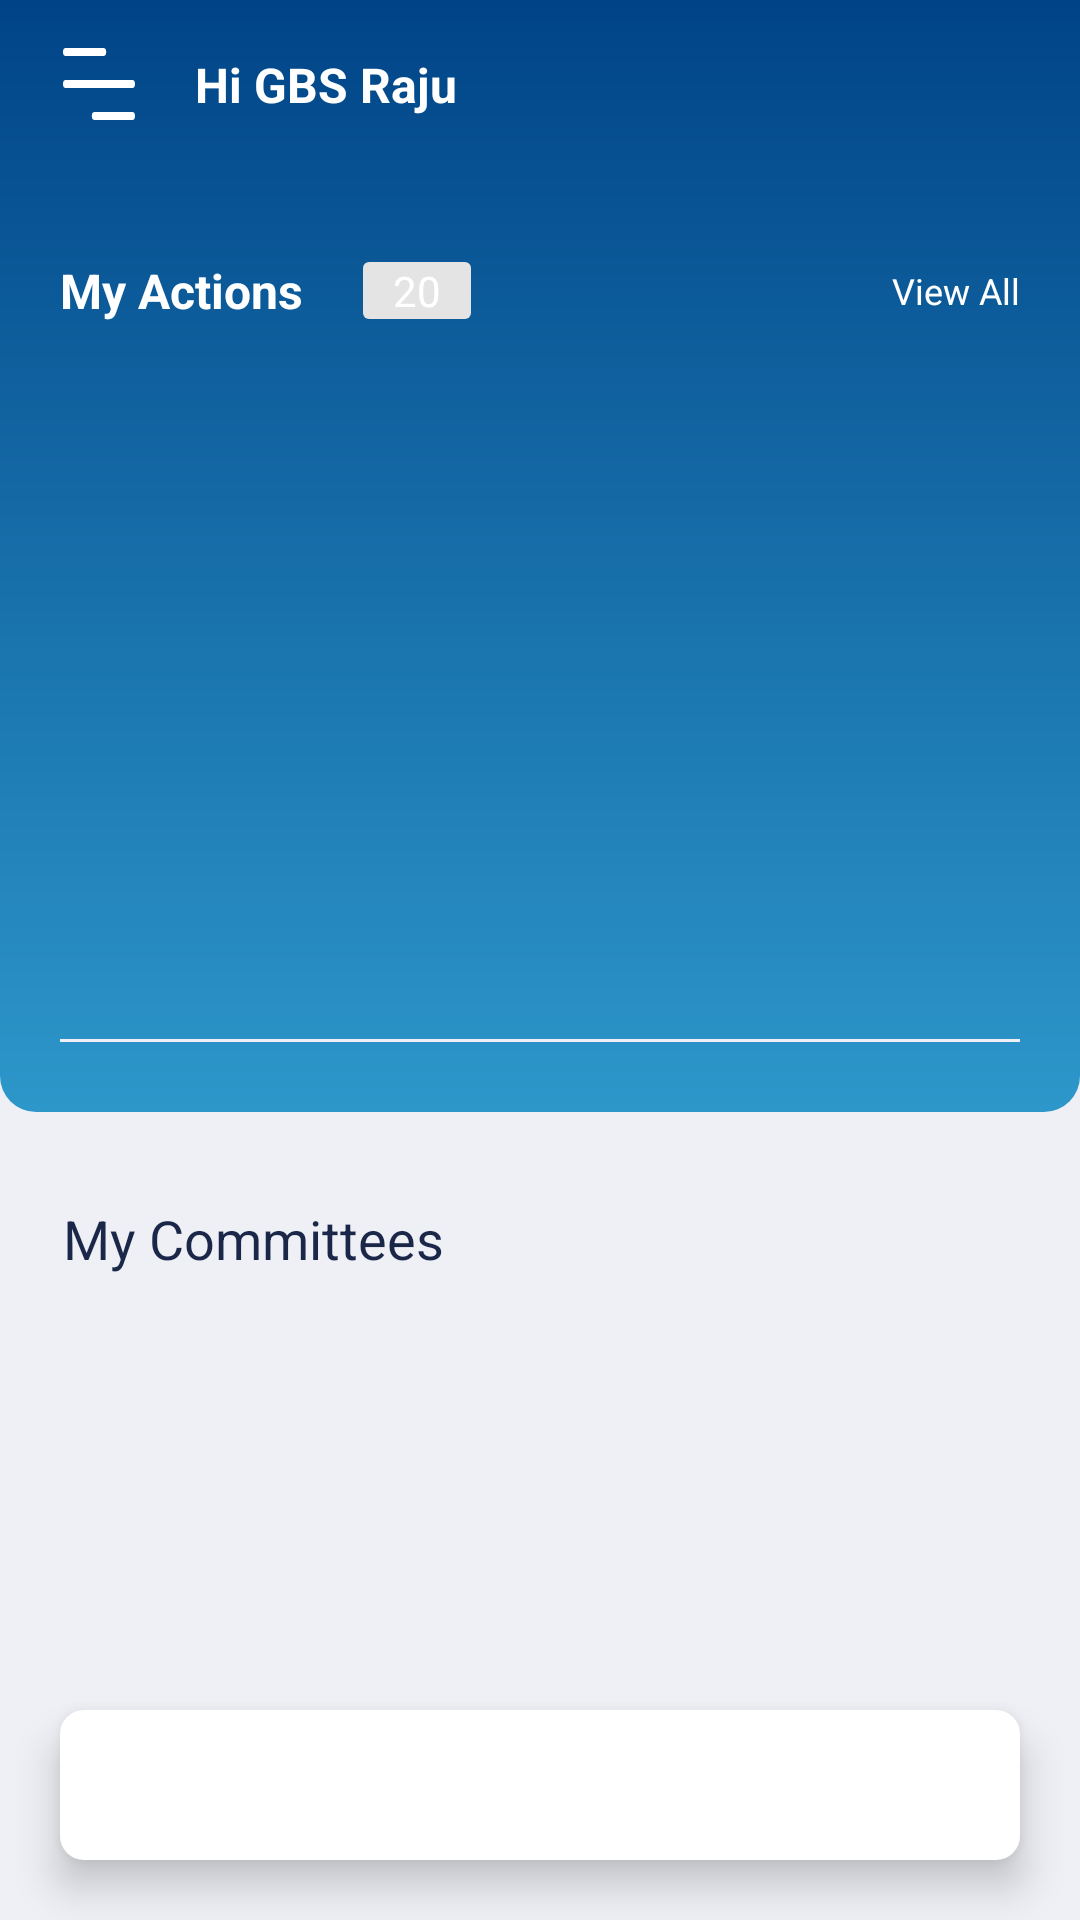

Icon click points for this 1080px×1920px phone screenshot, format [x,y]:
menu: [99,84]
